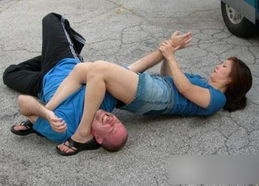falling: (4, 6, 255, 160)
